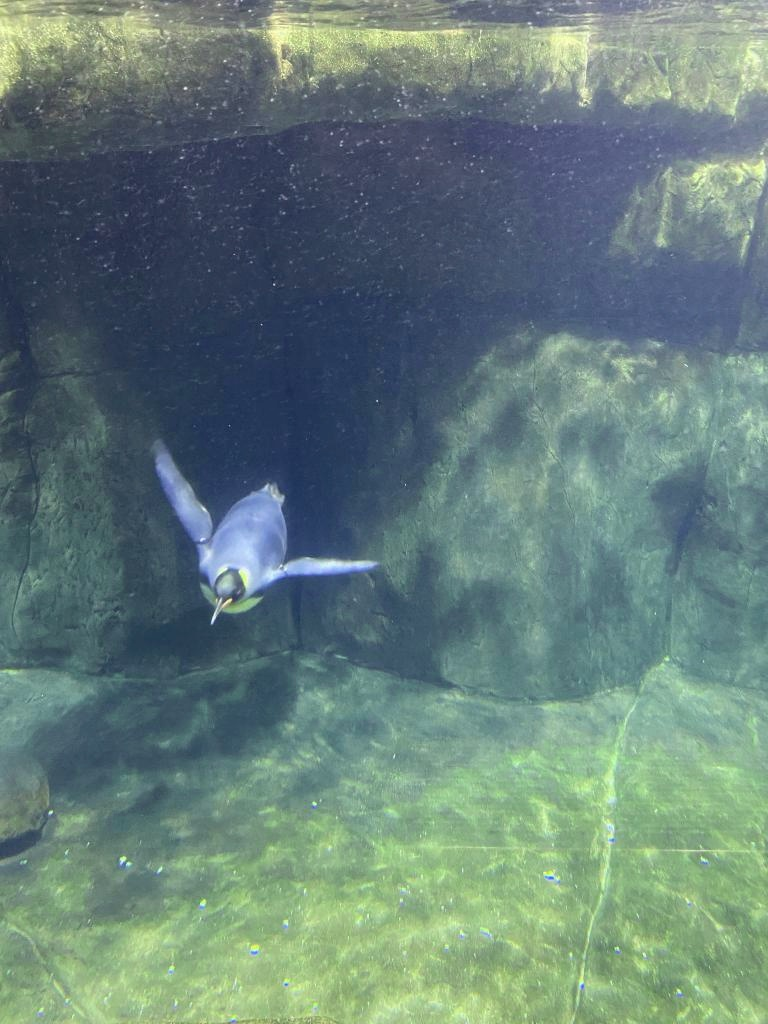penguin: (150, 436, 378, 626)
